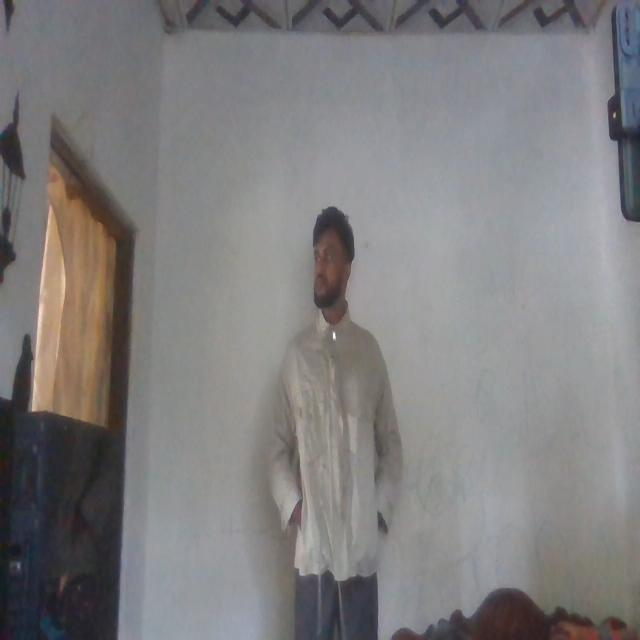Jacket_Wearer: (265, 308, 403, 591)
Person: (271, 195, 396, 640)
